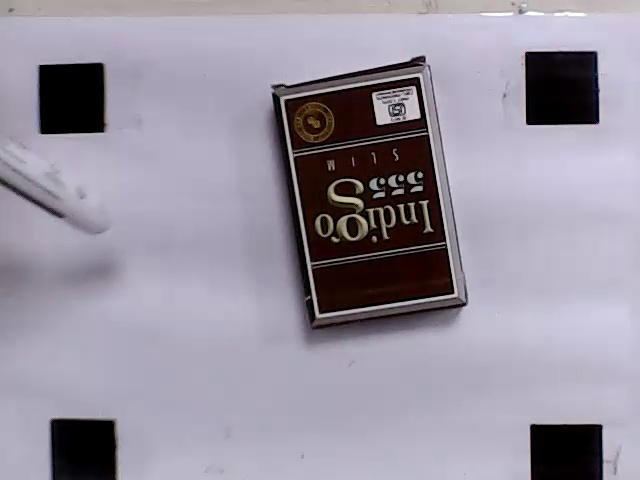BEX: (280, 74, 456, 314)
